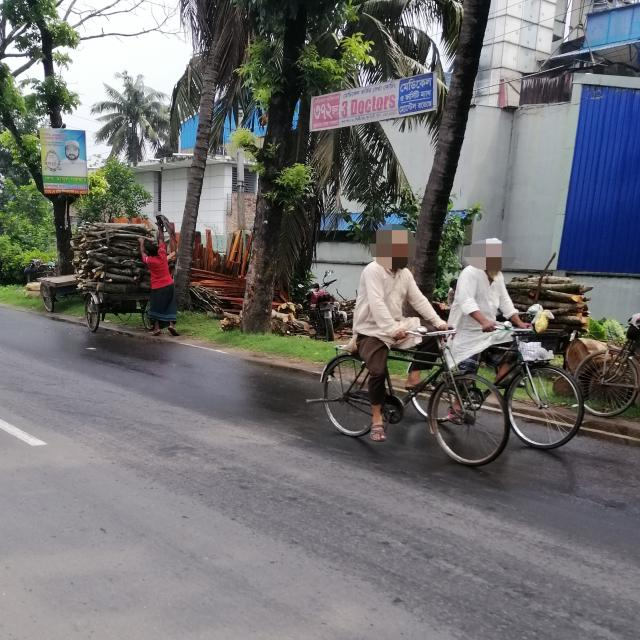Bicycle: (308, 344, 515, 466)
